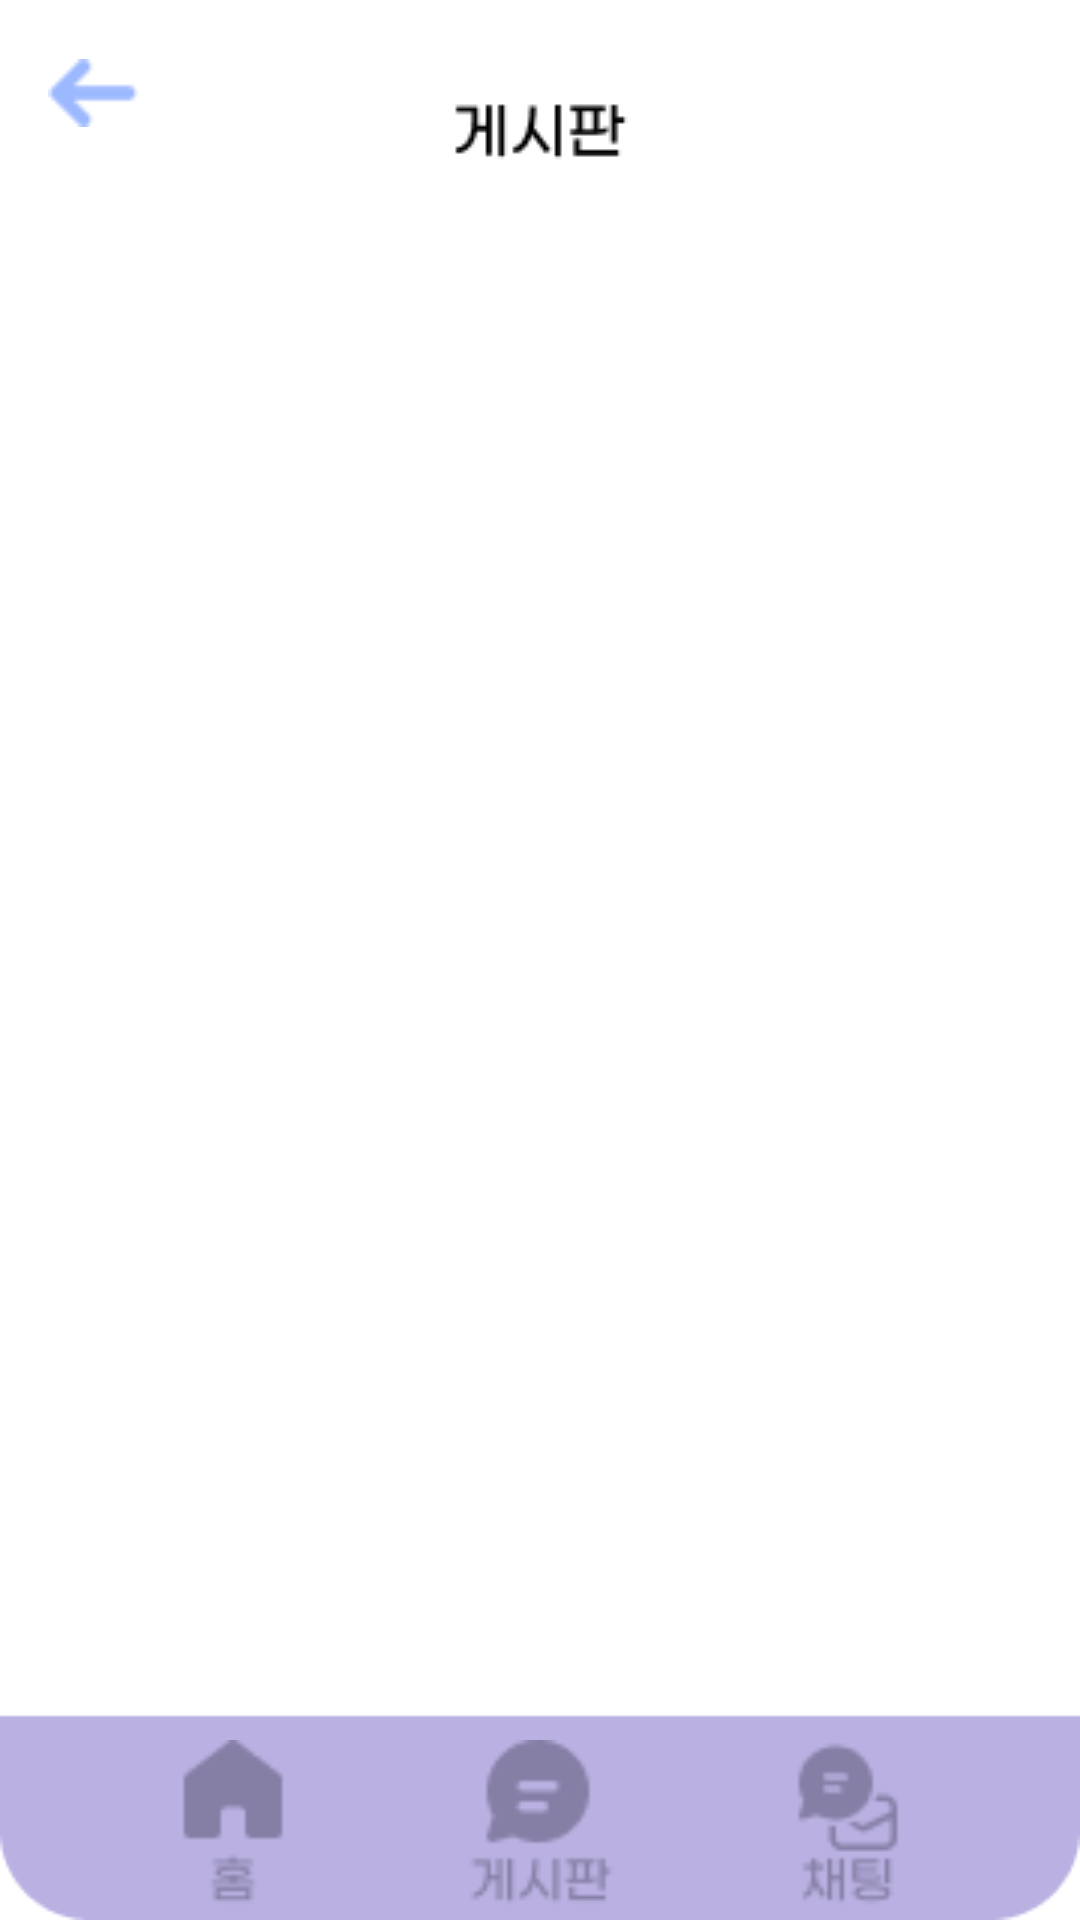

Screen size 1080px×1920px. Icon name, then its center in pixels as (x=x, y=y):
Back Icon: (x=92, y=93)
